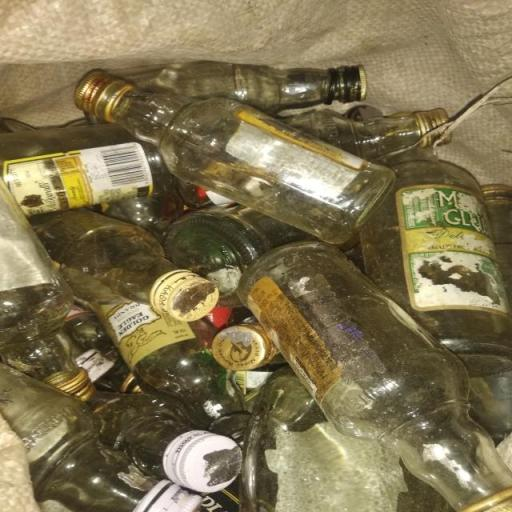glass: (229, 226, 512, 512), (62, 66, 401, 247), (357, 132, 512, 375), (0, 359, 203, 512), (20, 212, 178, 352), (72, 378, 249, 499), (2, 118, 188, 230), (0, 351, 118, 497), (80, 60, 352, 120), (1, 266, 101, 400), (0, 202, 78, 336)
